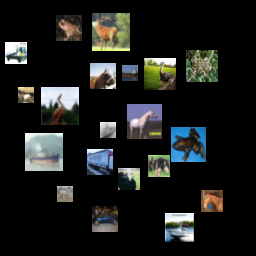airplane: (99, 156, 128, 185), (196, 81, 212, 97)
automobile: (173, 149, 202, 178), (191, 210, 217, 236)
bird: (88, 191, 117, 220), (147, 125, 169, 147)
cat: (25, 25, 63, 63), (112, 107, 134, 129), (141, 172, 157, 188)
deer: (185, 109, 223, 147), (154, 195, 189, 230), (185, 2, 214, 31), (202, 180, 221, 199)
dog: (143, 12, 178, 47), (97, 58, 129, 90)
ship: (1, 194, 23, 216), (187, 37, 203, 53)
